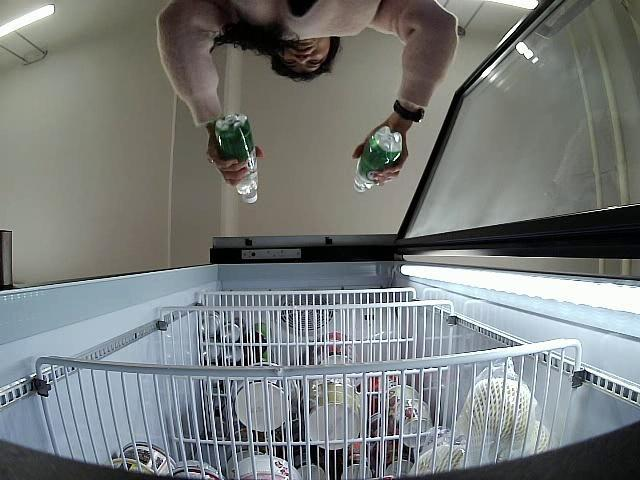18_trevi: (214, 112, 262, 205), (351, 126, 404, 192)
